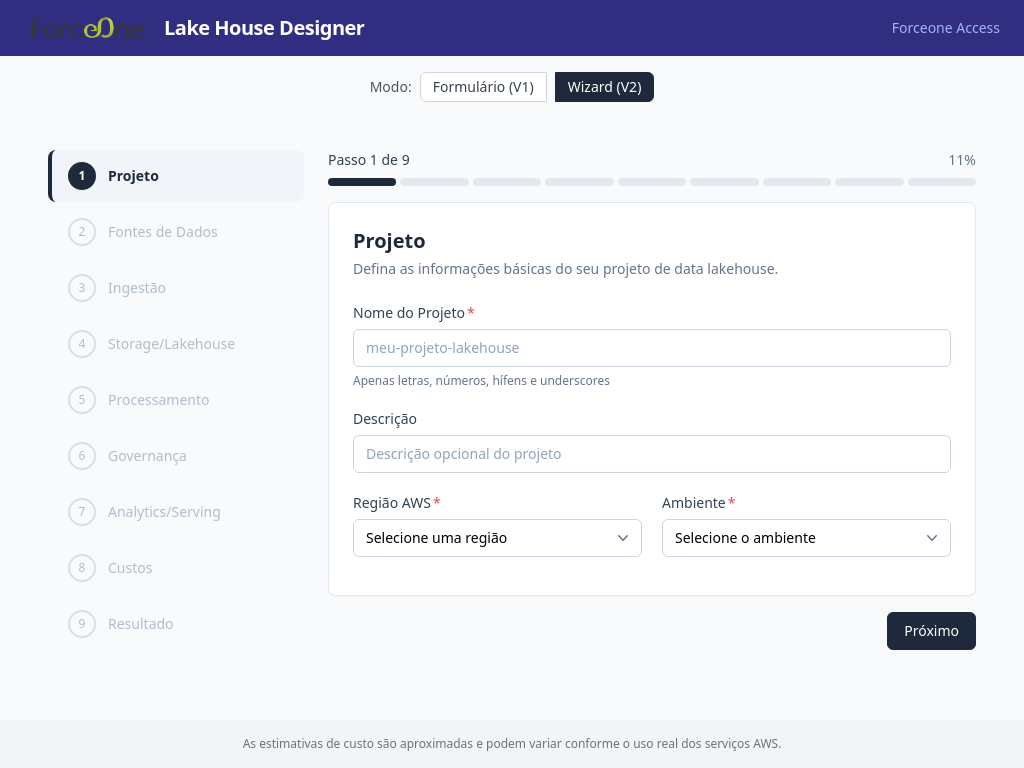
Test: App.tsx — Testes de Integração › exibe mensagem de erro de conexão quando API falha por rede
This screenshot has width=1024, height=768.
Switch to V1 mode to access the classic form with spinbutton inputs
Click the button "Formulário (V1)" at x=483, y=87, box [420, 72, 547, 102]
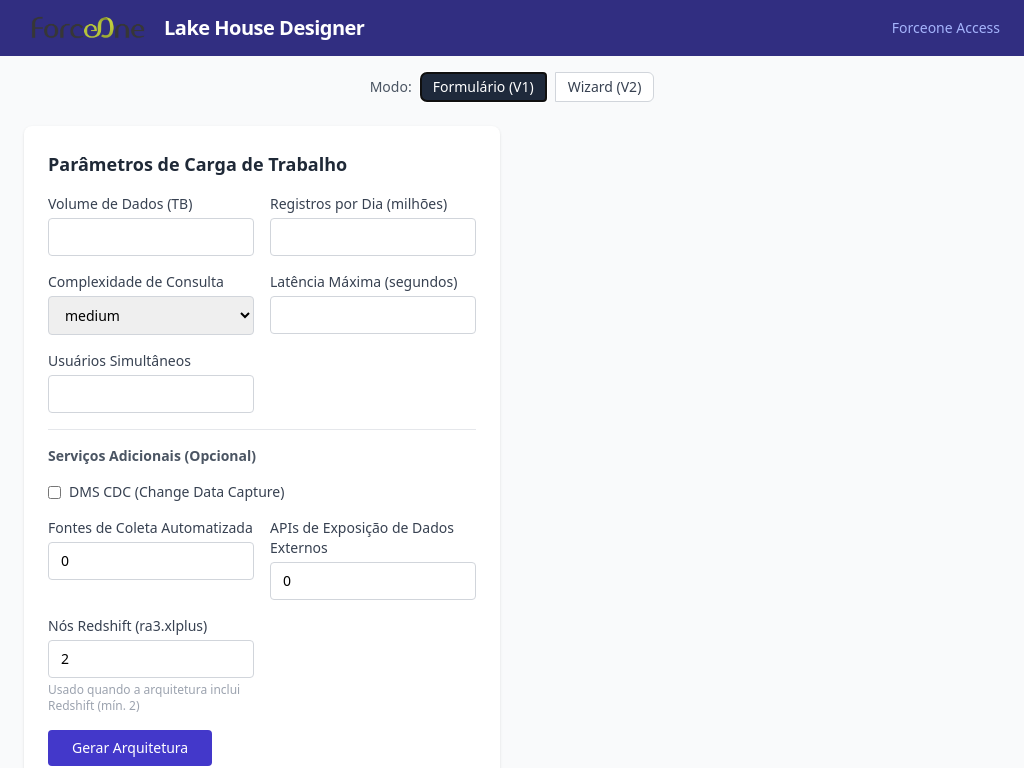
Preencher formulário
Type "10" into the number field below "Volume de Dados (TB)" at x=151, y=237, box [48, 218, 254, 256]
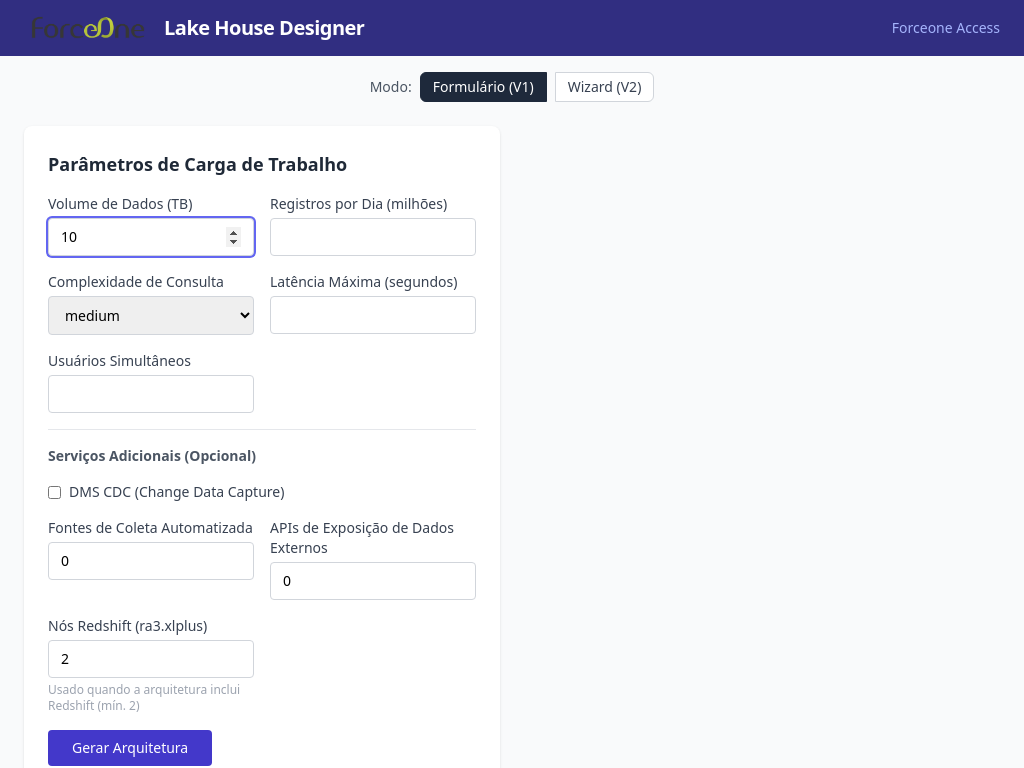
Type "5" into the number field below "Registros por Dia (milhões)" at x=373, y=237, box [270, 218, 476, 256]
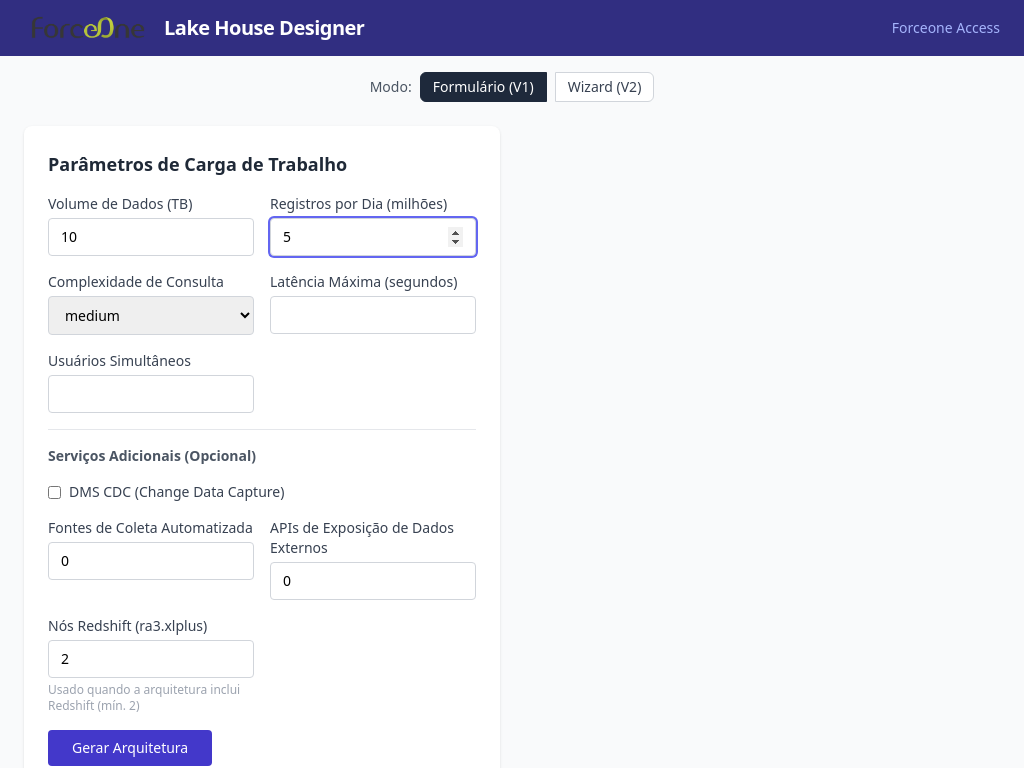
Type "3" into the number field below "Latência Máxima (segundos)" at x=373, y=315, box [270, 296, 476, 334]
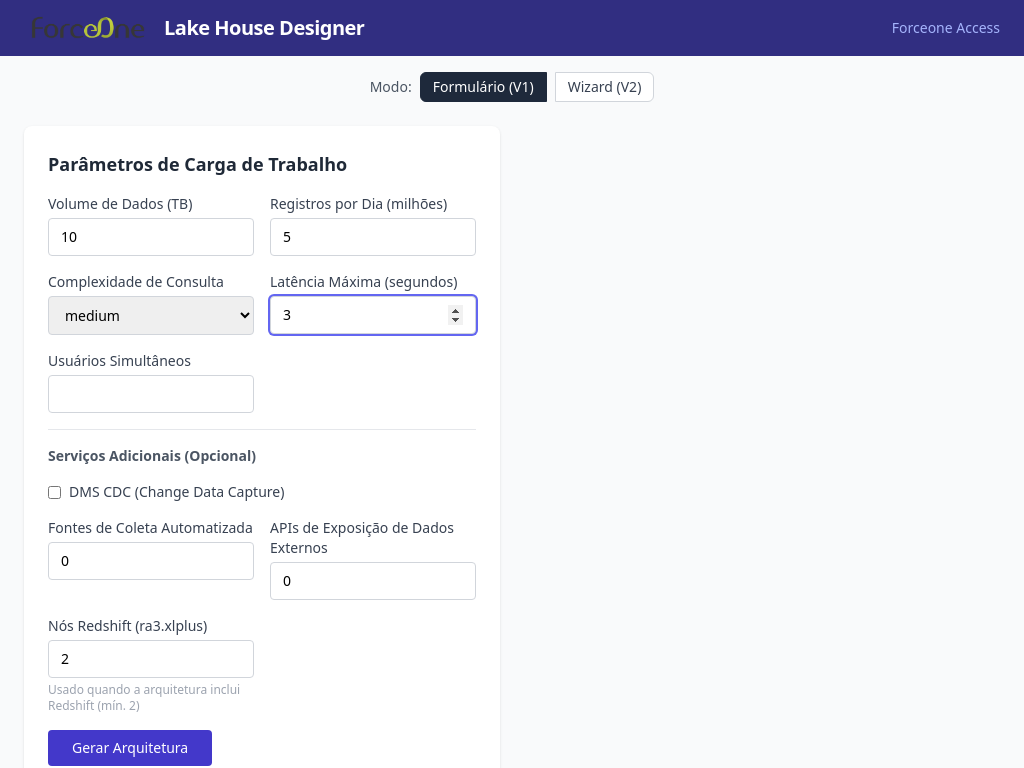
Type "50" into the number field below "Usuários Simultâneos" at x=151, y=394, box [48, 375, 254, 413]
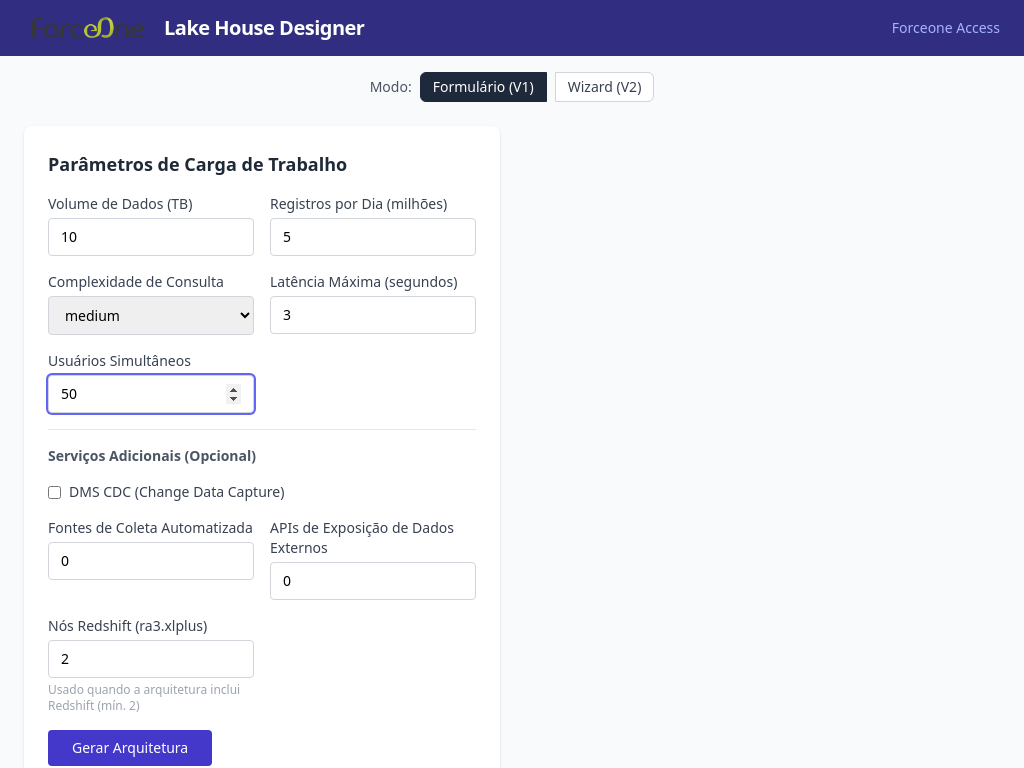
Click the button "Gerar Arquitetura" at x=130, y=748, box [48, 730, 212, 766]
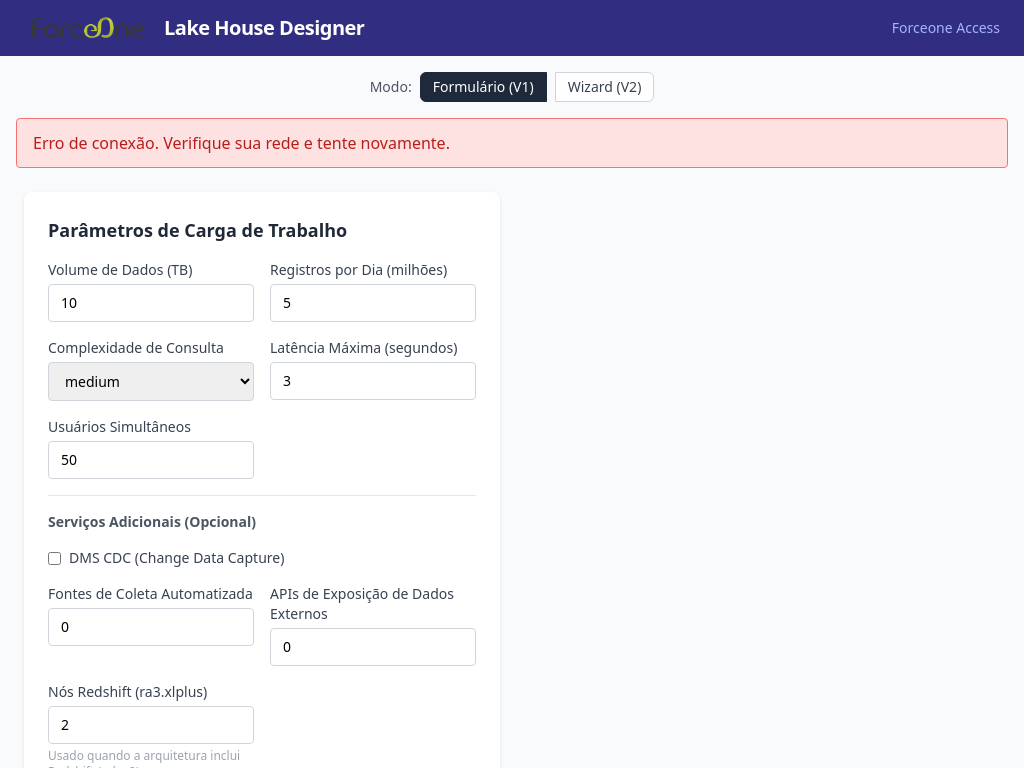
Expected: the text "Erro de conexão. Verifique sua rede e tente novamente." is shown, [16, 118, 1008, 168]
